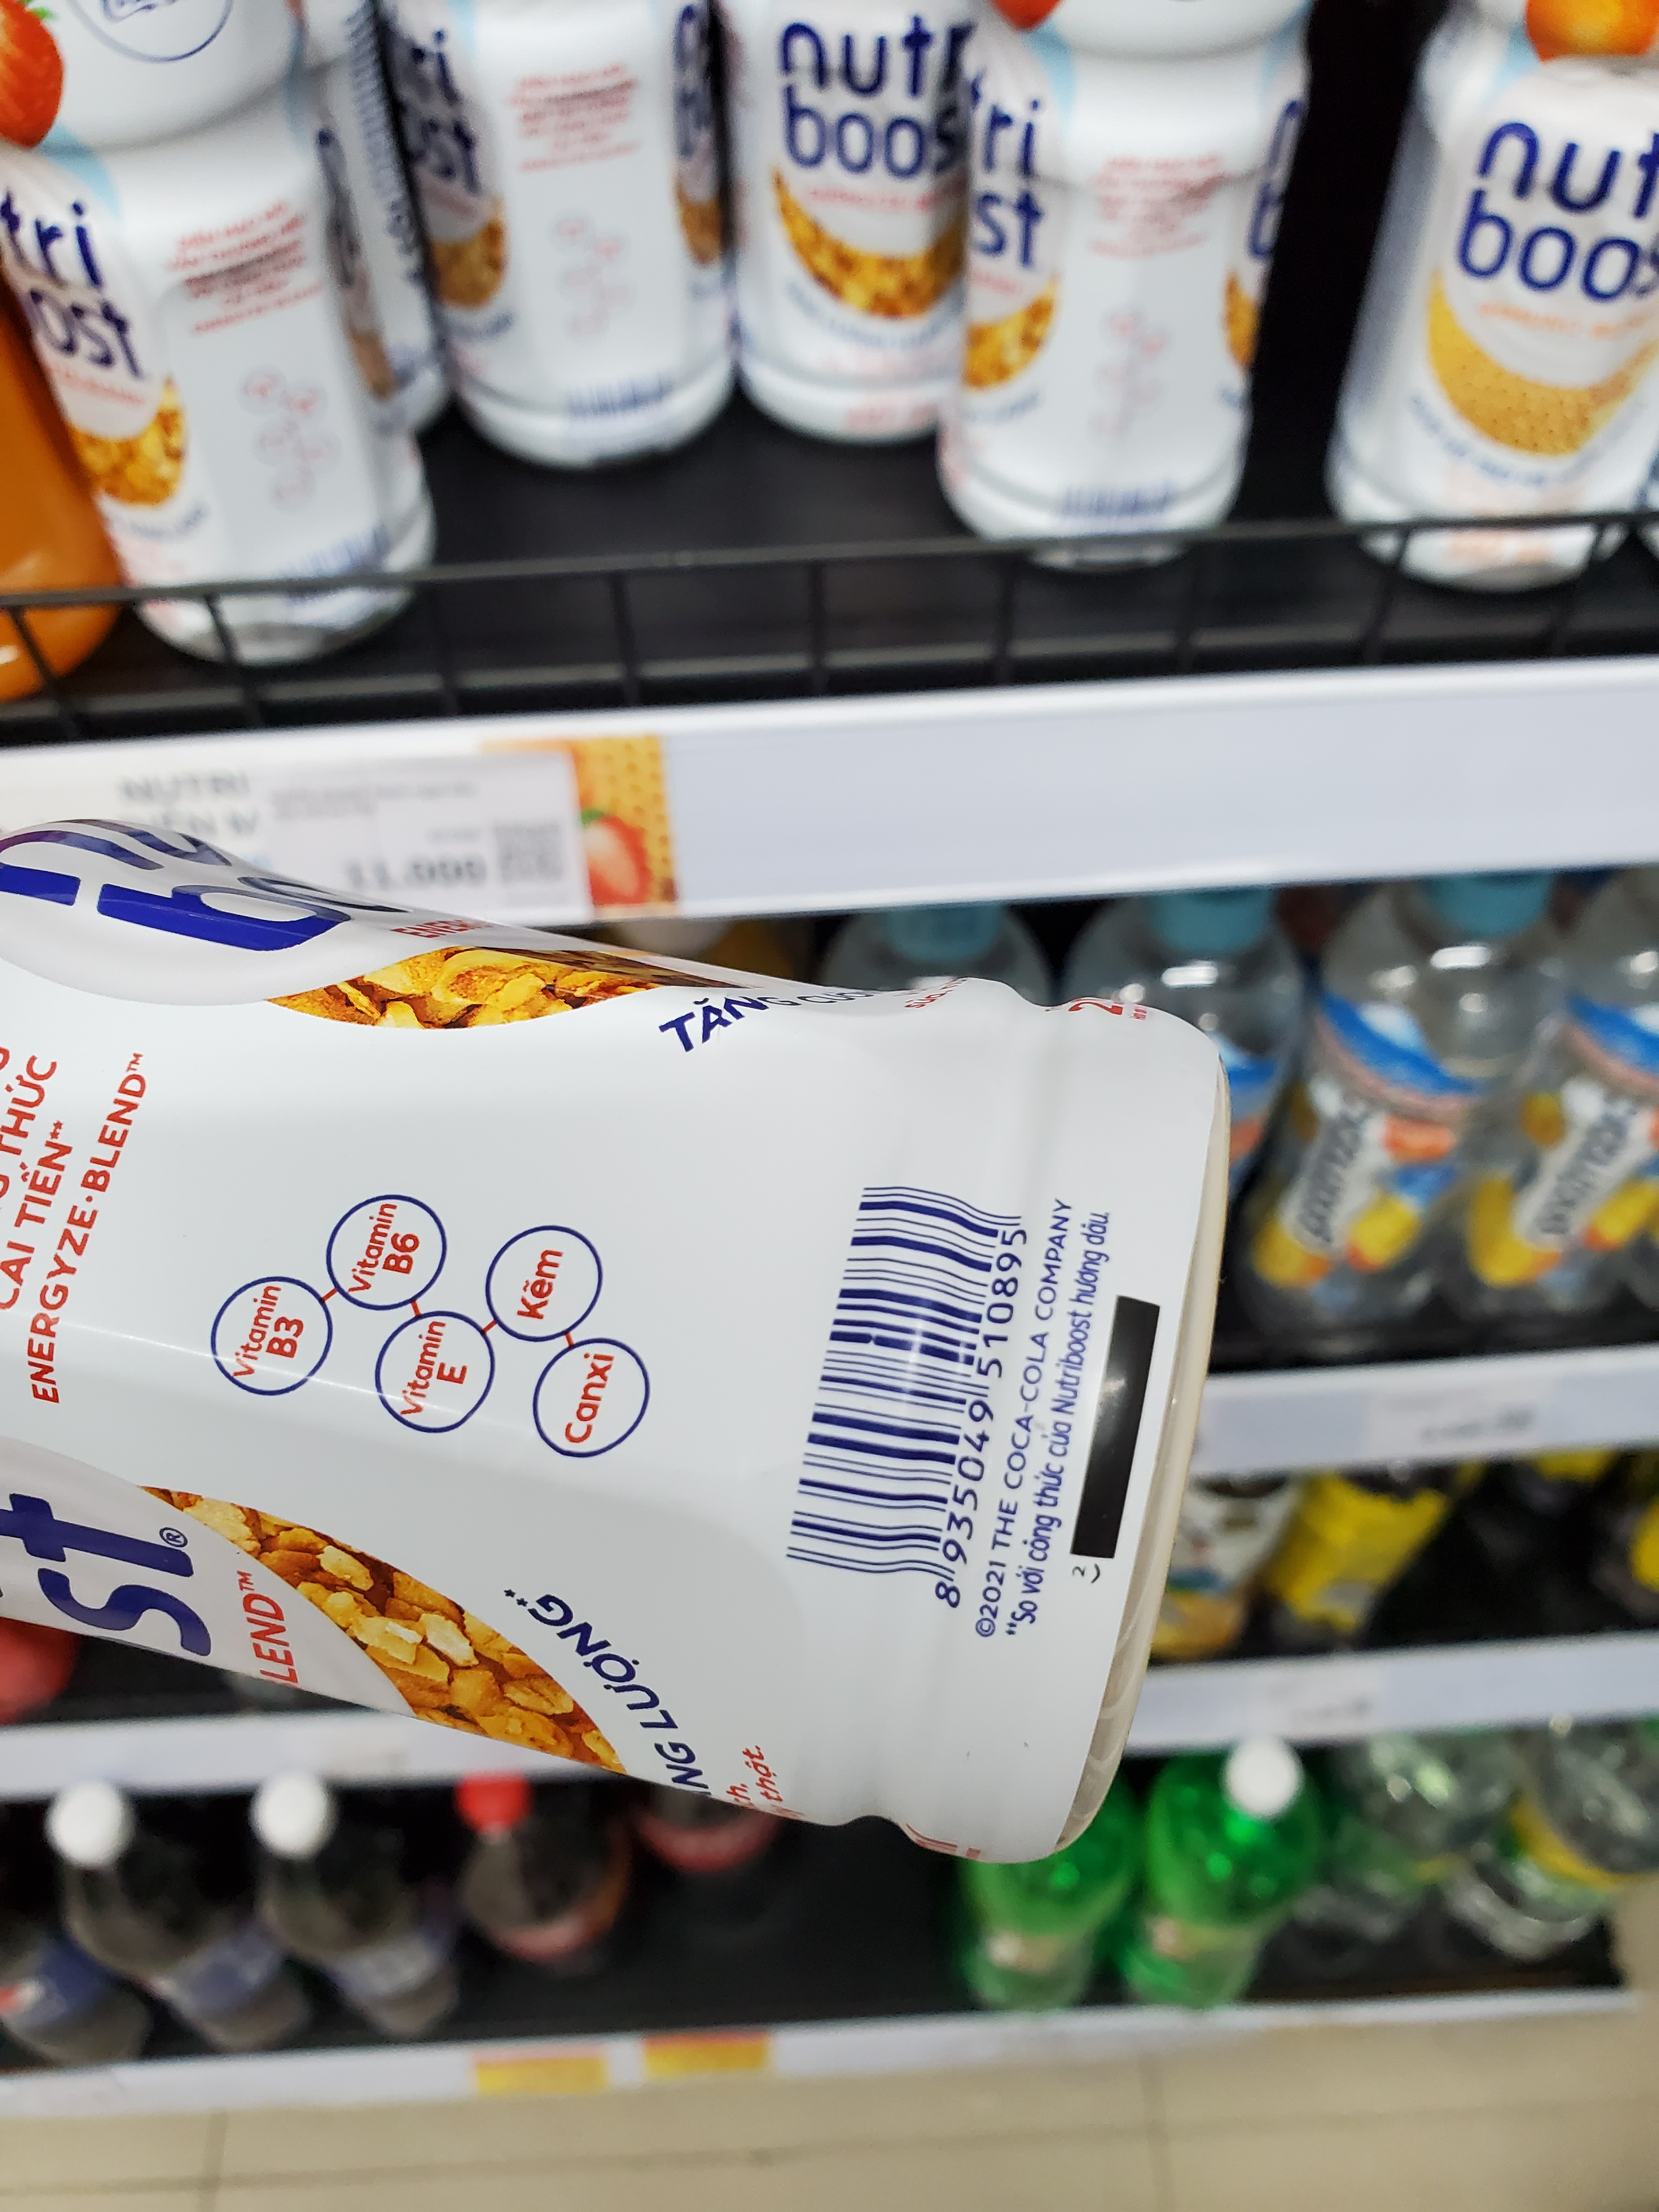barcode: (753, 1151, 1033, 1649)
